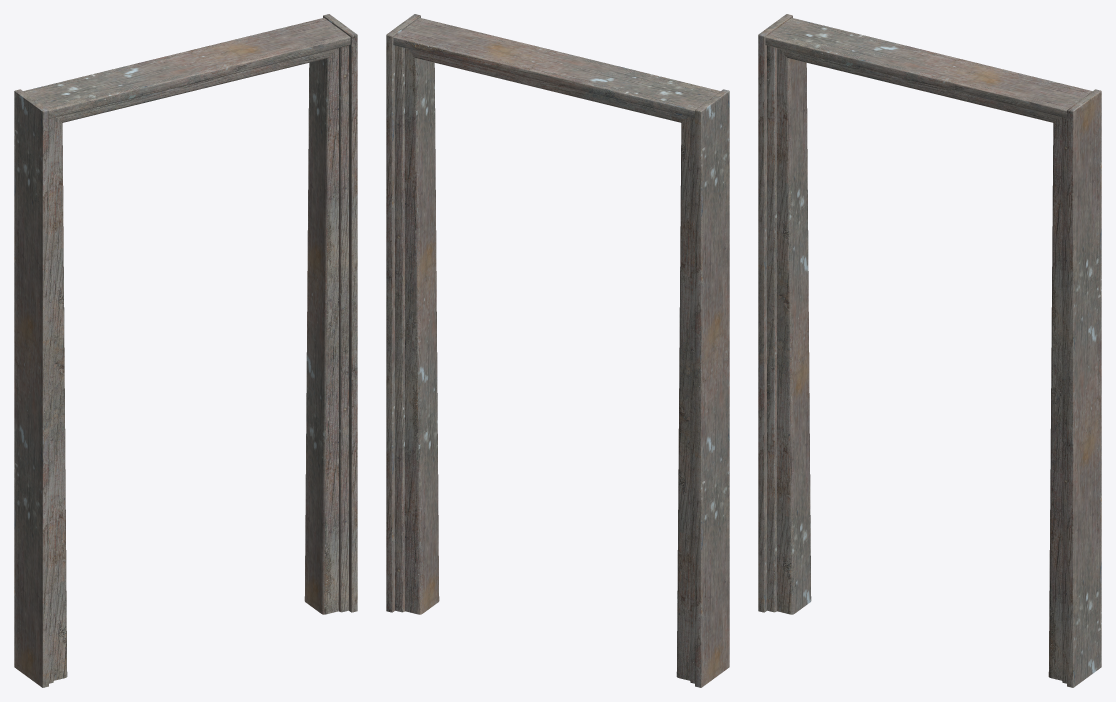
File: WoodenDoorwayThicker.FBX
3 views of the same model, side by side, from view 1: azimuth 30°, elevation 25°; view 2: azimuth 150°, elevation 25°; view 3: azimuth 330°, elevation 25° (orthographic).
Parts seen in each view (by area): view 1: Wooden_Doorway_thicker; view 2: Wooden_Doorway_thicker; view 3: Wooden_Doorway_thicker.
Part boxes in pixels (x1,y1,x2,y2): Wooden_Doorway_thicker: (14, 14, 357, 687); Wooden_Doorway_thicker: (386, 14, 729, 687); Wooden_Doorway_thicker: (758, 14, 1101, 687).
Size of the model in its own units: 38.98 by 68.11 by 6.15.
